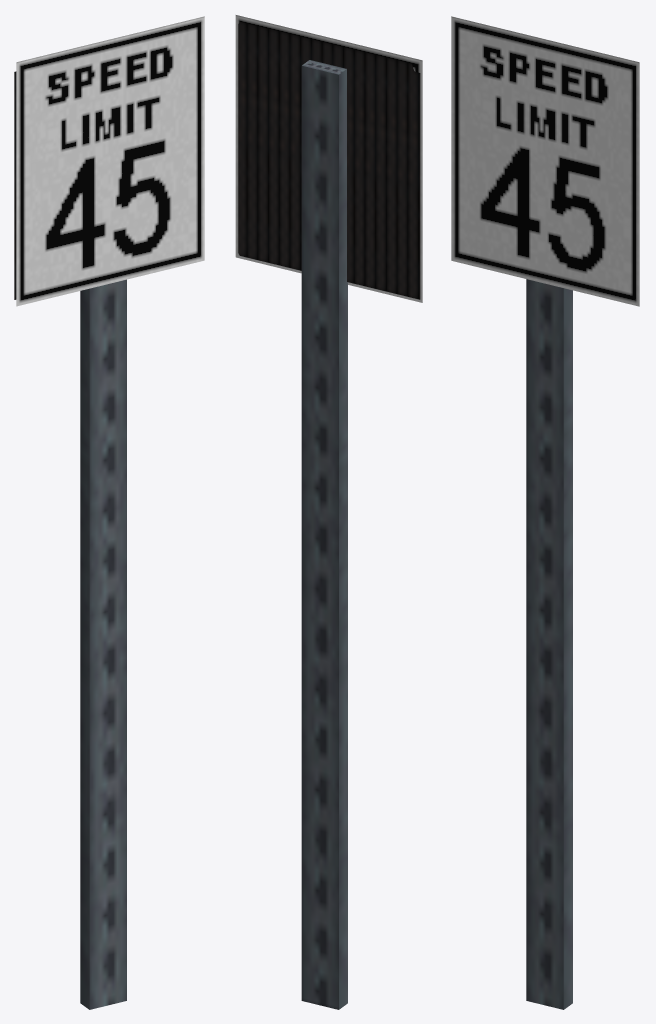
File: BLOCKYGON_SPEED LIMIT(45).fbx
The picture shows the model from 3 angles, left to right: view 1: azimuth 30°, elevation 25°; view 2: azimuth 150°, elevation 25°; view 3: azimuth 330°, elevation 25°; orthographic projection.
Parts seen in each view (by area): view 1: BLOCKYGON_SPEED_LIMIT_45_; view 2: BLOCKYGON_SPEED_LIMIT_45_; view 3: BLOCKYGON_SPEED_LIMIT_45_.
Boxes of the visible parts, box(x1,y1,x2,y2) form: BLOCKYGON_SPEED_LIMIT_45_: box(14, 16, 204, 1009); BLOCKYGON_SPEED_LIMIT_45_: box(235, 15, 422, 1009); BLOCKYGON_SPEED_LIMIT_45_: box(451, 16, 639, 1009).
Size of the model in its own units: 45.76 by 225 by 4.28.
